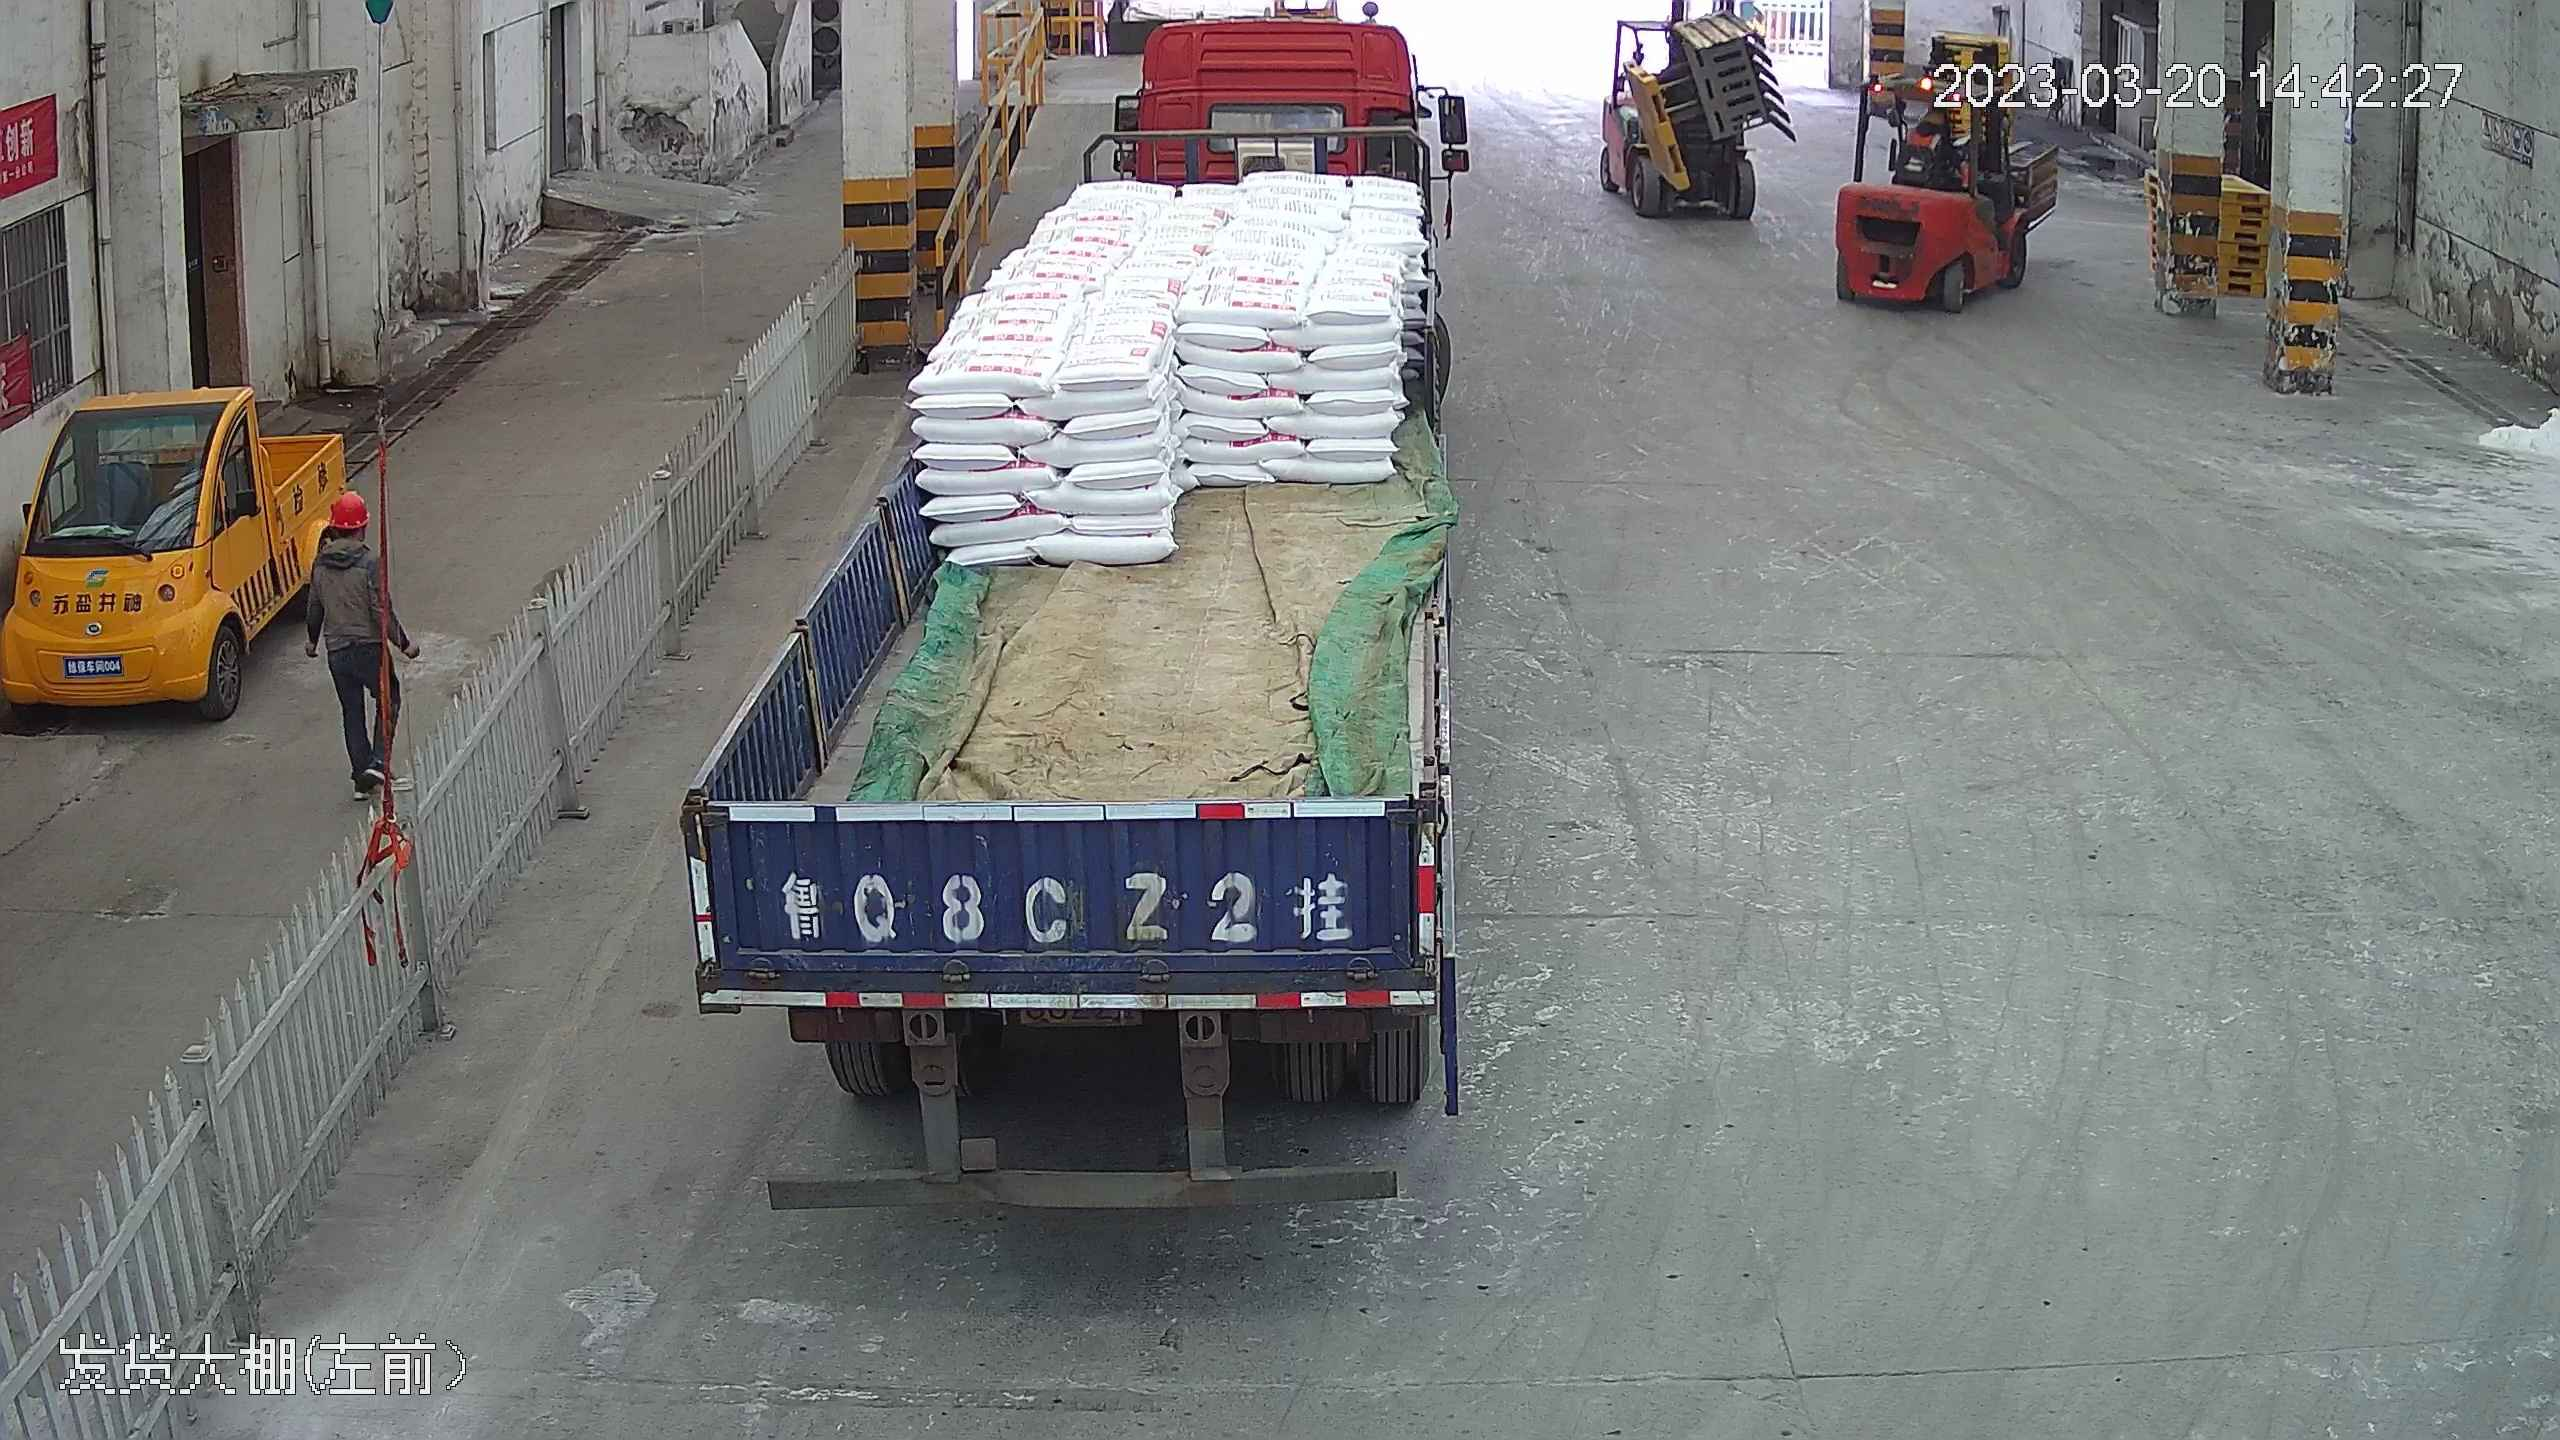head: (303, 486, 389, 592)
helmet: (324, 488, 368, 527)
people: (305, 482, 407, 806)
truck: (709, 0, 1480, 1210)
